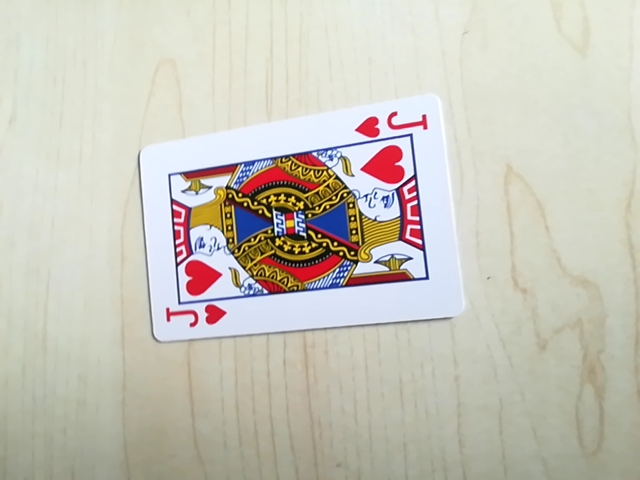hx j: (159, 298, 228, 336), (353, 106, 430, 140)
